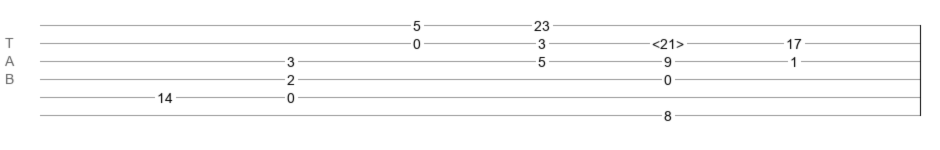0: (287, 90, 295, 100), (413, 36, 421, 46), (664, 72, 672, 82)
1: (790, 54, 798, 64)
14: (157, 90, 173, 100)
17: (786, 36, 802, 46)
2: (287, 72, 295, 82)
23: (534, 18, 550, 28)
3: (287, 54, 295, 64), (538, 36, 546, 46)
5: (413, 18, 421, 28), (538, 54, 546, 64)
8: (664, 108, 672, 118)
9: (664, 54, 672, 64)
harmonic: (652, 36, 684, 46)
